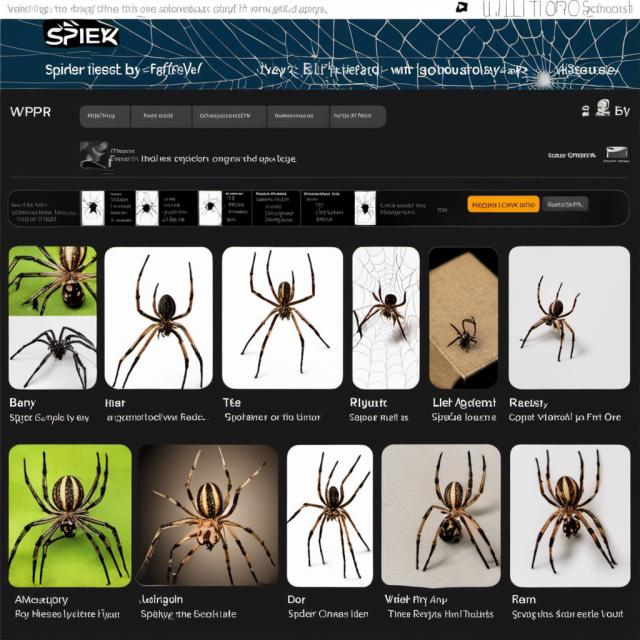spider: (138, 456, 275, 576), (8, 448, 128, 582), (230, 250, 333, 388), (109, 252, 210, 391), (524, 454, 618, 574), (413, 448, 498, 580), (287, 455, 369, 575), (524, 265, 584, 361)
